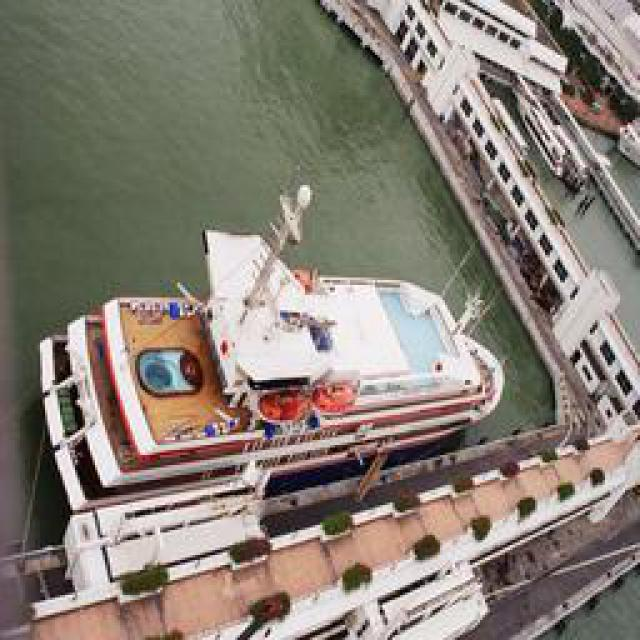Ship: (36, 202, 520, 520)
